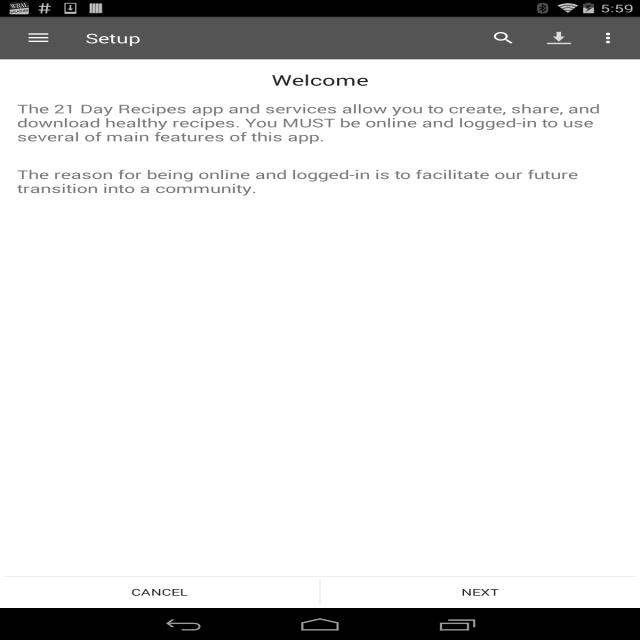ImageButton: (538, 28, 579, 50), (20, 26, 58, 49), (593, 28, 627, 53), (486, 28, 519, 46)
TextView: (13, 99, 610, 146), (9, 165, 590, 197), (260, 70, 382, 88), (75, 28, 159, 50)
